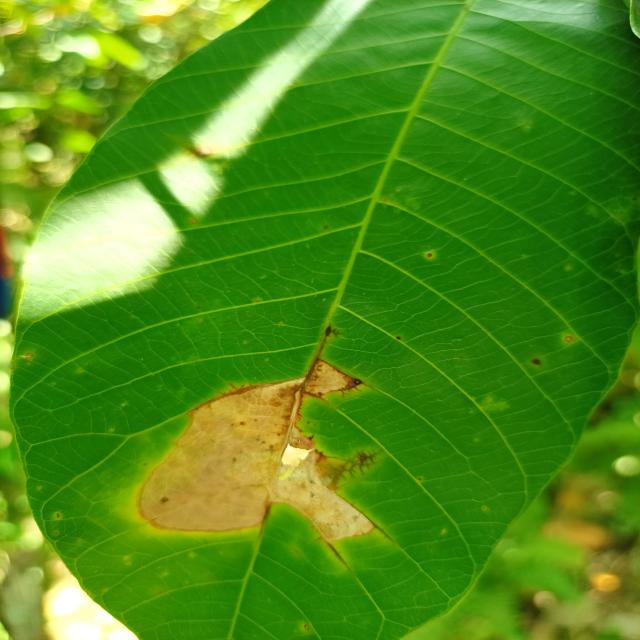Colletotrichum: (532, 358, 542, 365), (354, 378, 362, 386), (564, 336, 572, 342), (304, 624, 310, 631), (26, 353, 34, 358), (426, 253, 432, 257), (396, 336, 401, 340)
Corynespora: (335, 449, 384, 479), (340, 378, 363, 398), (324, 326, 344, 337)
Leaf-Blight: (138, 376, 374, 543), (306, 360, 354, 394)
